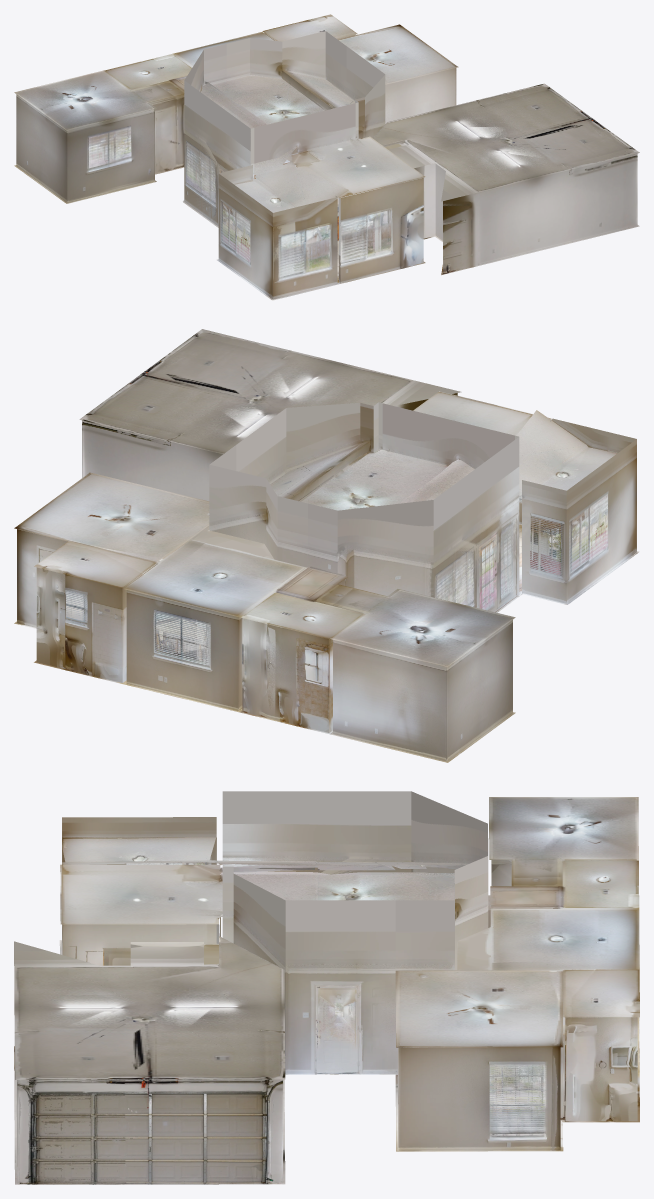
File: interior.glb
The picture shows the model from 3 angles, top to bottom: view 1: azimuth 30°, elevation 25°; view 2: azimuth 150°, elevation 25°; view 3: azimuth 270°, elevation 25°; orthographic projection. The views are drawn at different scales.
Parts seen in each view (by area): view 1: ceiling_1, walls_10, walls_8, walls_11, ceiling_scan_0, walls_3, walls_4, ceiling_7, walls_7, ceiling_6, ceiling_5, walls_14 (+7 smaller); view 2: ceiling_1, walls_4, walls_11, ceiling_7, walls_12, walls_7, ceiling_scan_0, walls_3, ceiling_5, walls_10, ceiling_14, walls_13 (+8 smaller); view 3: ceiling_1, walls_9, walls_3, ceiling_7, walls_4, walls_12, ceiling_5, ceiling_scan_0, ceiling_14, ceiling_6, walls_10, walls_2 (+8 smaller).
Part boxes in pixels (left/top/right/bottom): ceiling_1: left=373, top=83, right=639, bottom=201; walls_10: left=264, top=33, right=637, bottom=273; walls_8: left=273, top=178, right=423, bottom=299; walls_11: left=16, top=94, right=184, bottom=202; ceiling_scan_0: left=201, top=70, right=358, bottom=212; walls_3: left=204, top=31, right=384, bottom=162; walls_4: left=184, top=50, right=250, bottom=226; ceiling_7: left=14, top=32, right=273, bottom=130; walls_7: left=218, top=165, right=272, bottom=299; ceiling_6: left=287, top=136, right=425, bottom=198; ceiling_5: left=338, top=24, right=458, bottom=84; walls_14: left=254, top=103, right=355, bottom=163; ceiling_1: left=79, top=329, right=461, bottom=454; walls_4: left=337, top=437, right=519, bottom=612; walls_11: left=277, top=579, right=512, bottom=761; ceiling_7: left=124, top=539, right=515, bottom=667; walls_12: left=17, top=526, right=242, bottom=710; walls_7: left=522, top=439, right=636, bottom=603; ceiling_scan_0: left=270, top=410, right=616, bottom=510; walls_3: left=209, top=408, right=337, bottom=574; ceiling_5: left=14, top=472, right=209, bottom=563; walls_10: left=36, top=393, right=457, bottom=682; ceiling_14: left=34, top=529, right=363, bottom=639; walls_13: left=242, top=591, right=332, bottom=732; ceiling_1: left=14, top=936, right=285, bottom=1079; walls_9: left=17, top=924, right=282, bottom=1183; walls_3: left=285, top=838, right=488, bottom=1073; ceiling_7: left=489, top=797, right=639, bottom=970; walls_4: left=222, top=791, right=487, bottom=874; walls_12: left=398, top=971, right=560, bottom=1150; ceiling_5: left=395, top=970, right=563, bottom=1047; ceiling_scan_0: left=62, top=837, right=466, bottom=916; ceiling_14: left=204, top=860, right=639, bottom=1017; ceiling_6: left=60, top=864, right=220, bottom=924; walls_10: left=16, top=1017, right=637, bottom=1166; walls_2: left=233, top=874, right=285, bottom=1073.
Size of the model in its own units: 14.26 by 4.08 by 13.31.
17 materials, 17 textured.
